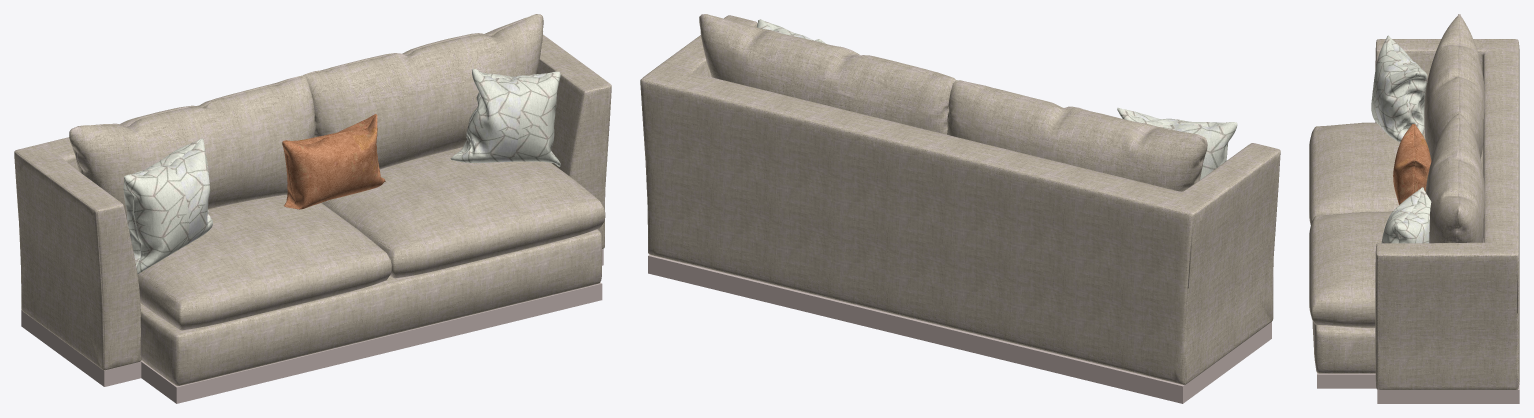
The model's file is burtonjames_jc105-albionsofa.gltf.
3 renders of one model, left to right at view 1: azimuth 30°, elevation 25°; view 2: azimuth 150°, elevation 25°; view 3: azimuth 270°, elevation 25°, orthographic. The views are drawn at different scales.
Parts seen in each view (by area): view 1: burtonjames_jc105-albionsofa; view 2: burtonjames_jc105-albionsofa; view 3: burtonjames_jc105-albionsofa.
Part boxes in pixels (left/top/right/bottom): burtonjames_jc105-albionsofa: left=14, top=14, right=611, bottom=403; burtonjames_jc105-albionsofa: left=640, top=14, right=1280, bottom=403; burtonjames_jc105-albionsofa: left=1309, top=14, right=1519, bottom=403.
Bounding box in the file's own units: 2501 × 1020 × 1029.
Materials: 4 (3 with a texture image).
